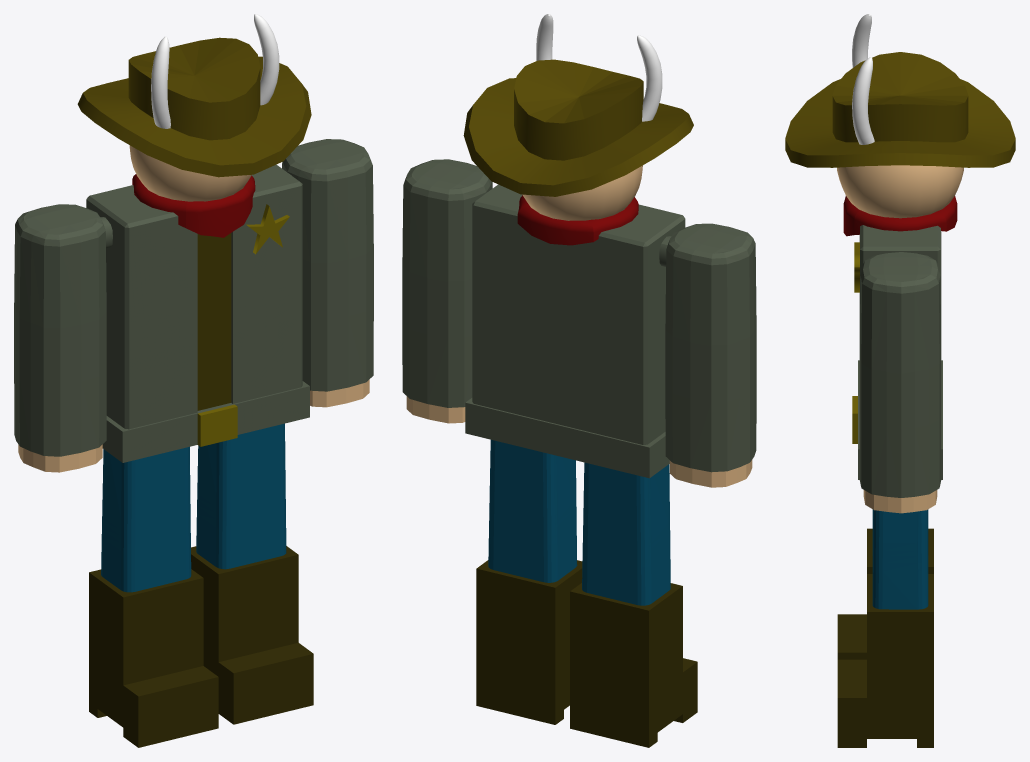
The model's file is CowBoy 1.fbx.
The picture shows the model from 3 angles, left to right: view 1: azimuth 30°, elevation 25°; view 2: azimuth 150°, elevation 25°; view 3: azimuth 270°, elevation 25°; orthographic projection. The views are drawn at different scales.
Visible parts, largest first — view 1: polySurface10, polySurface8, polySurface5, polySurface12, polySurface14, polySurface11, polySurface4, polySurface13, polySurface16, polySurface15, polySurface3; view 2: polySurface10, polySurface8, polySurface5, polySurface12, polySurface14, polySurface11, polySurface13, polySurface4, polySurface16, polySurface15; view 3: polySurface11, polySurface14, polySurface5, polySurface13, polySurface10, polySurface4, polySurface8, polySurface15, polySurface16.
Part boxes in pixels (box(x1,y1,x2,y2)): polySurface10: box(86, 164, 309, 462); polySurface8: box(89, 446, 218, 747); polySurface5: box(191, 423, 313, 724); polySurface12: box(14, 204, 106, 472); polySurface14: box(77, 37, 311, 177); polySurface11: box(282, 139, 373, 407); polySurface4: box(132, 174, 255, 237); polySurface13: box(129, 145, 251, 201); polySurface16: box(151, 36, 170, 128); polySurface15: box(254, 14, 279, 105); polySurface3: box(246, 204, 289, 254); polySurface10: box(465, 184, 685, 478); polySurface8: box(570, 462, 697, 747); polySurface5: box(476, 439, 582, 724); polySurface12: box(665, 223, 756, 487); polySurface14: box(463, 59, 693, 196); polySurface11: box(402, 159, 492, 423); polySurface13: box(522, 165, 642, 220); polySurface4: box(517, 195, 638, 245); polySurface16: box(637, 35, 662, 121); polySurface15: box(536, 14, 553, 60); polySurface11: box(859, 252, 941, 513); polySurface14: box(785, 52, 1015, 167); polySurface5: box(837, 509, 933, 747); polySurface13: box(837, 165, 963, 218); polySurface10: box(852, 225, 942, 479); polySurface4: box(843, 196, 957, 236); polySurface8: box(837, 509, 933, 659); polySurface15: box(852, 57, 874, 144); polySurface16: box(852, 14, 871, 67).
Size of the model in its own units: 5.3 by 10.03 by 3.13.
